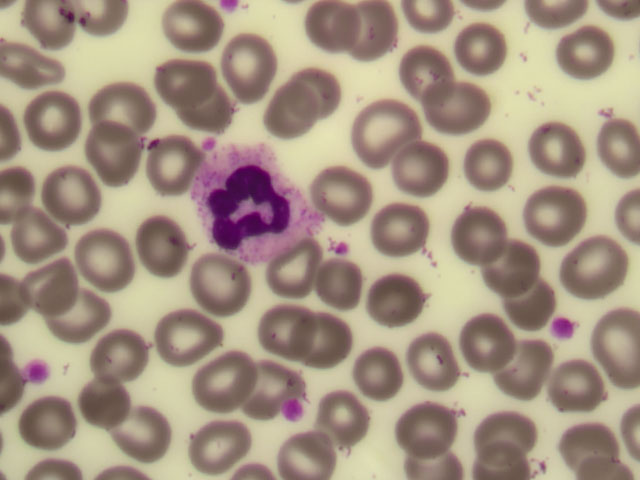Platelets: (22, 359, 50, 385), (552, 316, 577, 343), (328, 237, 354, 259), (283, 400, 304, 423), (198, 135, 220, 153), (222, 1, 239, 12)
RBC: (200, 148, 316, 258), (455, 304, 517, 373), (453, 207, 510, 265), (464, 134, 521, 192), (531, 124, 588, 182), (531, 187, 588, 245), (486, 234, 543, 292), (503, 280, 560, 338), (564, 239, 621, 297), (583, 128, 640, 186), (562, 28, 619, 86), (583, 312, 640, 370), (550, 364, 607, 422), (491, 342, 548, 400), (477, 404, 534, 462), (399, 397, 456, 455), (563, 422, 620, 480), (412, 331, 463, 387), (311, 393, 368, 440), (9, 39, 61, 88), (27, 96, 79, 145), (94, 80, 146, 129), (90, 122, 142, 171), (53, 173, 105, 222), (15, 215, 67, 264), (23, 265, 75, 314), (49, 291, 101, 340), (78, 226, 130, 275), (139, 229, 191, 278), (143, 136, 195, 185), (152, 57, 204, 106), (192, 85, 244, 134), (220, 39, 272, 88), (164, 2, 216, 51), (259, 82, 311, 131), (293, 70, 345, 119), (300, 6, 352, 55), (348, 5, 400, 54), (455, 21, 507, 70), (401, 45, 453, 94), (440, 80, 492, 129), (354, 105, 406, 154), (397, 146, 449, 195), (323, 169, 375, 218), (376, 207, 428, 256), (310, 257, 362, 306), (262, 251, 314, 300), (187, 262, 239, 311), (161, 312, 213, 361), (90, 332, 142, 381), (82, 381, 134, 430), (114, 409, 166, 458), (20, 396, 72, 445), (189, 425, 241, 474), (192, 357, 244, 406), (229, 366, 281, 415), (263, 314, 315, 363), (300, 311, 352, 360), (364, 280, 416, 329), (351, 348, 403, 397), (281, 431, 333, 480), (24, 1, 76, 49)
